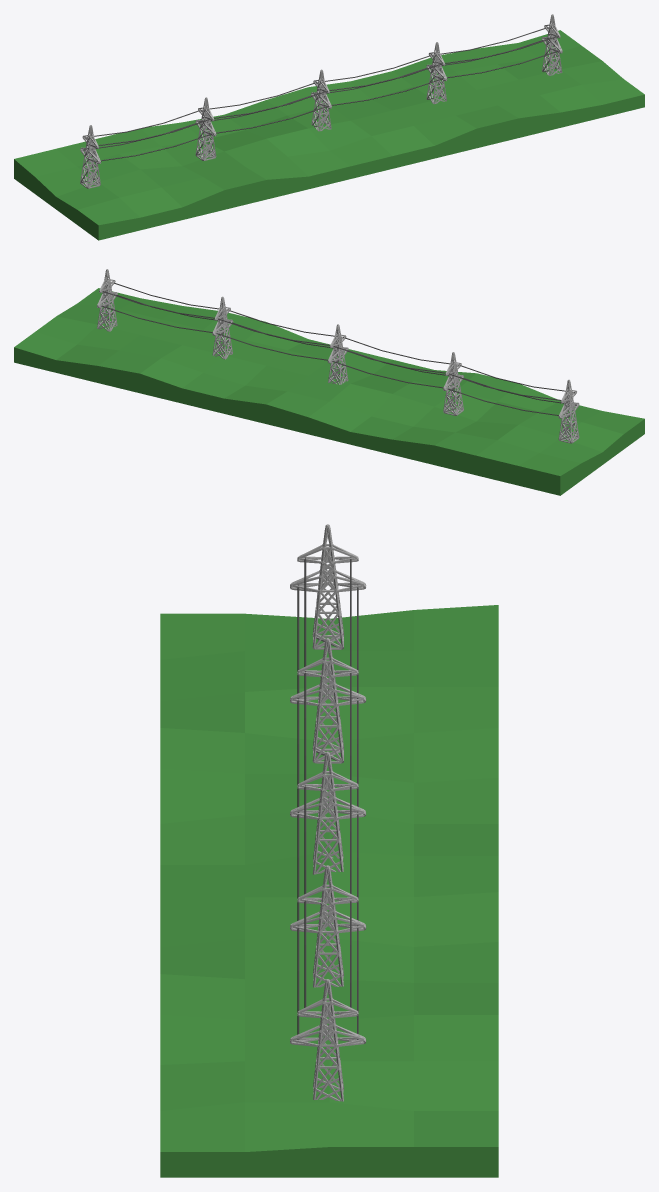
Rendered from Electricity_Pylons.fbx.
3 renders of one model, top to bottom at view 1: azimuth 30°, elevation 25°; view 2: azimuth 150°, elevation 25°; view 3: azimuth 270°, elevation 25°, orthographic. The views are drawn at different scales.
Parts seen in each view (by area): view 1: Plane, Cube, Circle; view 2: Plane, Cube, Circle; view 3: Plane, Cube, Circle.
Part boxes in pixels (x1,y1,x2,y2): Plane: (14, 30, 644, 240); Cube: (80, 14, 562, 188); Circle: (82, 28, 558, 161); Plane: (14, 288, 644, 495); Cube: (97, 269, 579, 443); Circle: (101, 282, 576, 415); Plane: (160, 605, 498, 1177); Cube: (290, 524, 366, 1101); Circle: (297, 557, 358, 1040).
Size of the model in its own units: 2492 by 332 by 668.
